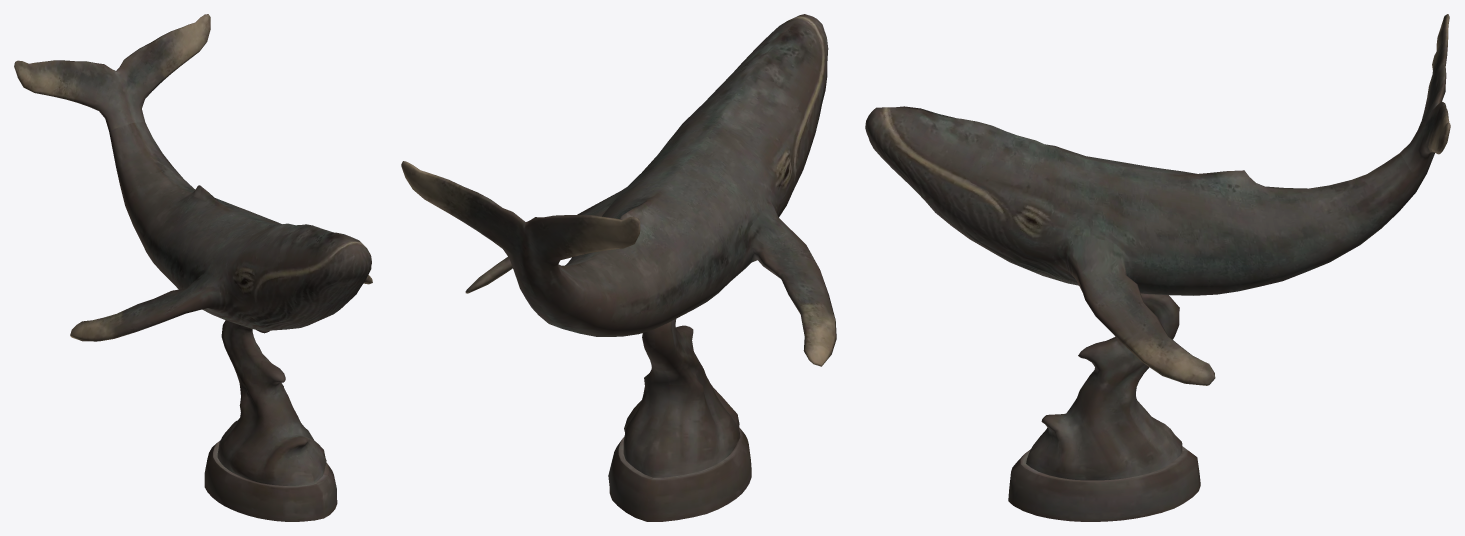
The model's file is bronze_whale_statue.glb.
The picture shows the model from 3 angles, left to right: view 1: azimuth 30°, elevation 25°; view 2: azimuth 150°, elevation 25°; view 3: azimuth 270°, elevation 25°; orthographic projection. The views are drawn at different scales.
Visible parts, largest first — view 1: bronze_whale_statue; view 2: bronze_whale_statue; view 3: bronze_whale_statue.
Boxes of the visible parts, x1,y1,x2,y2 form: bronze_whale_statue: (14,14,372,521); bronze_whale_statue: (401,14,836,521); bronze_whale_statue: (865,14,1450,521).
Bounding box in the file's own units: 0.932 × 1.07 × 1.37.
1 material, 1 textured.
